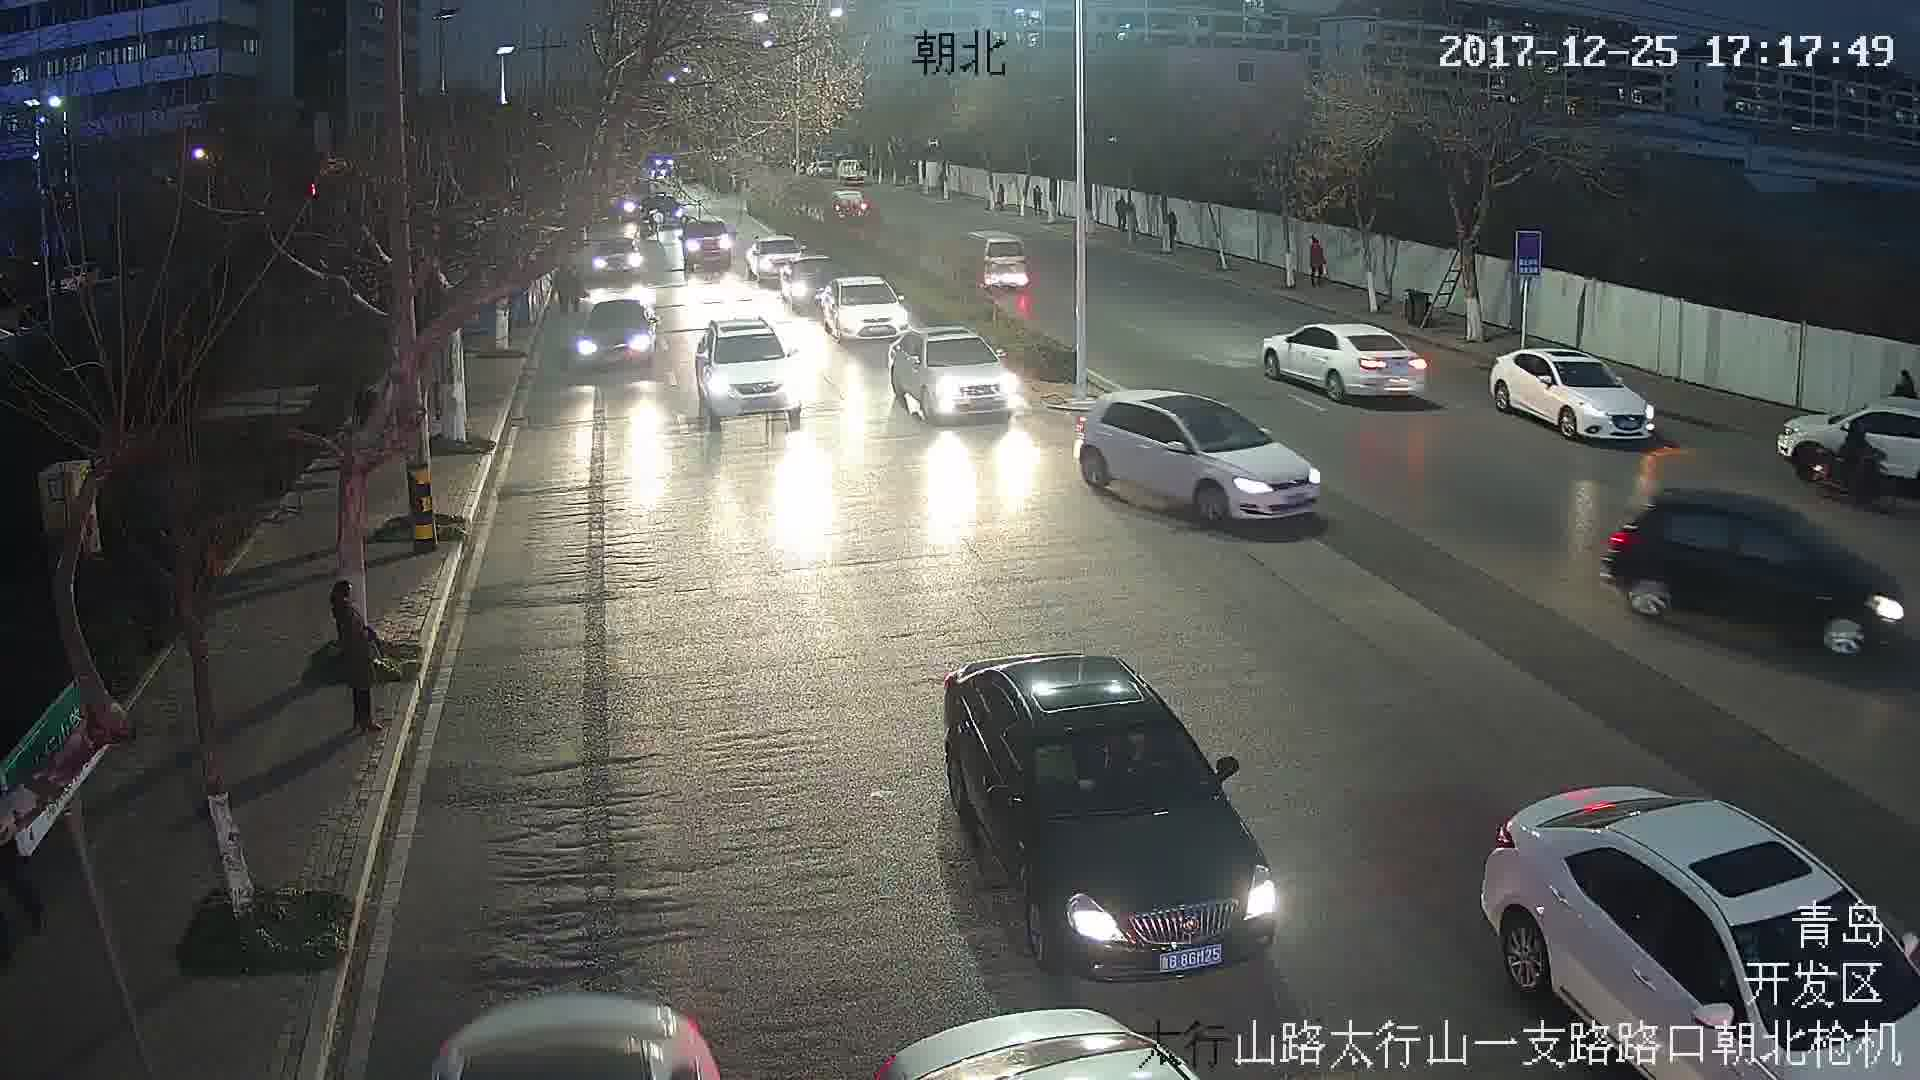car: (938, 656, 1274, 978), (1602, 487, 1905, 671), (1066, 394, 1323, 530), (1492, 348, 1660, 446), (1252, 323, 1427, 409), (887, 324, 1023, 424), (685, 317, 803, 425), (814, 278, 906, 341), (574, 300, 660, 367), (957, 234, 1032, 288), (745, 235, 802, 274), (687, 219, 731, 267)
person: (327, 577, 389, 730), (1306, 231, 1327, 282)
